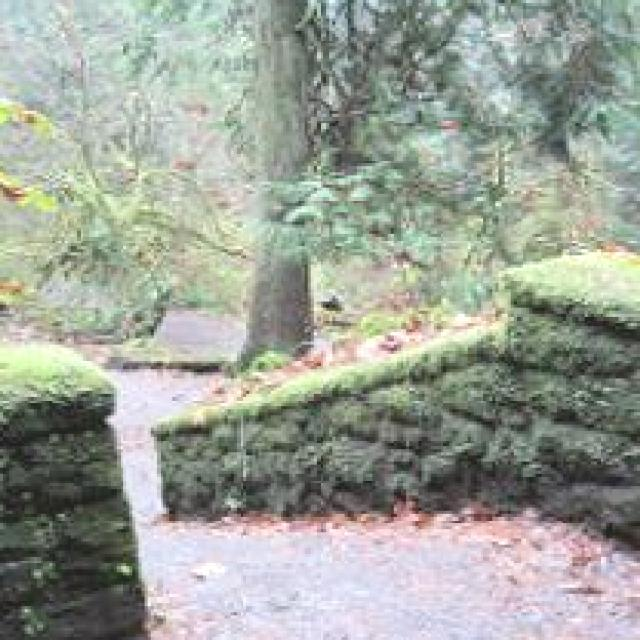downstair: (152, 499, 432, 640)
